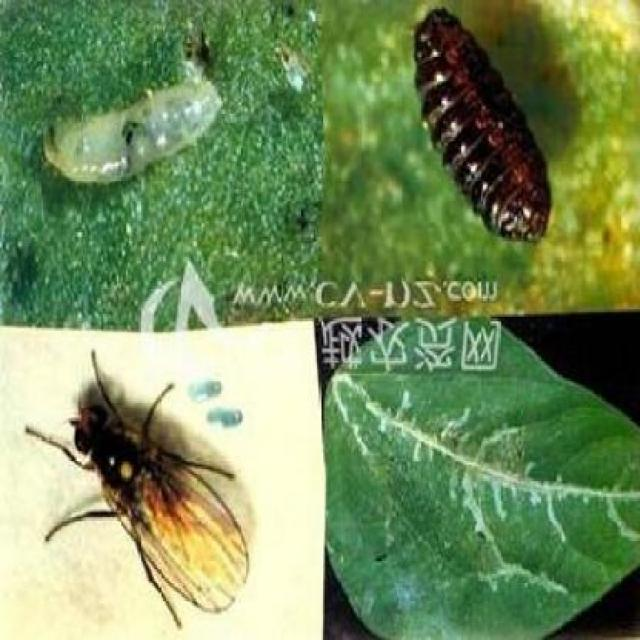whorl-maggot: (399, 0, 573, 252), (30, 68, 232, 189)
